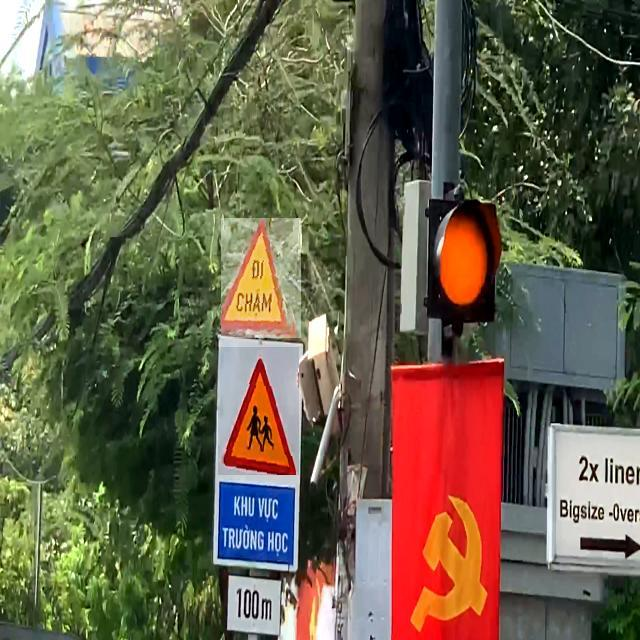W-225: (218, 347, 299, 475)
W-245a: (221, 218, 301, 338)
